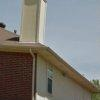Chimney: (14, 2, 51, 43)
